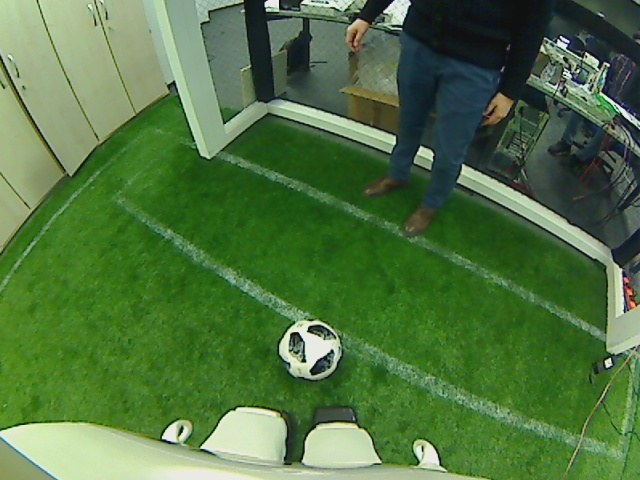ball: (276, 316, 341, 382)
